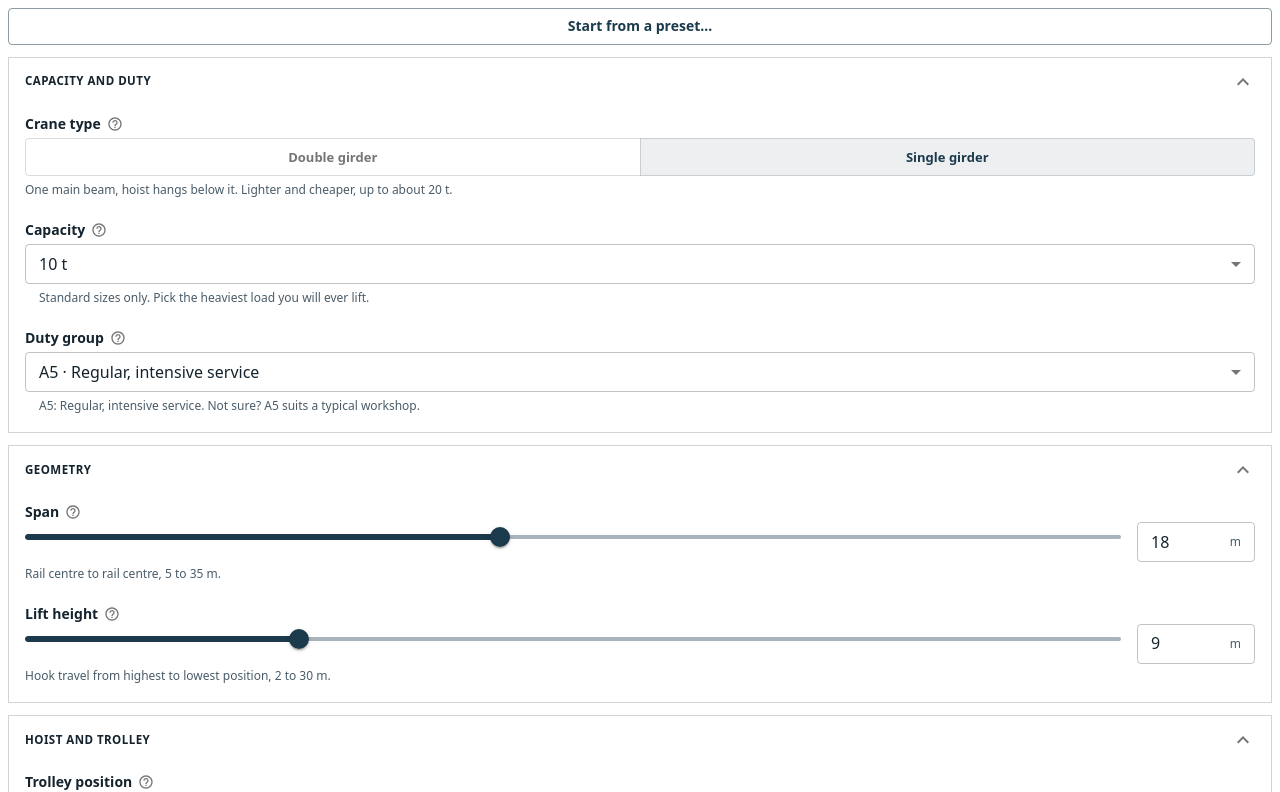
Test: InputsPanel validation display › shows a cross-field rule on the capacity field with its hint, and a warning without blocking
Click the dropdown labelled "10 t": (53, 264) [39,253,67,275]
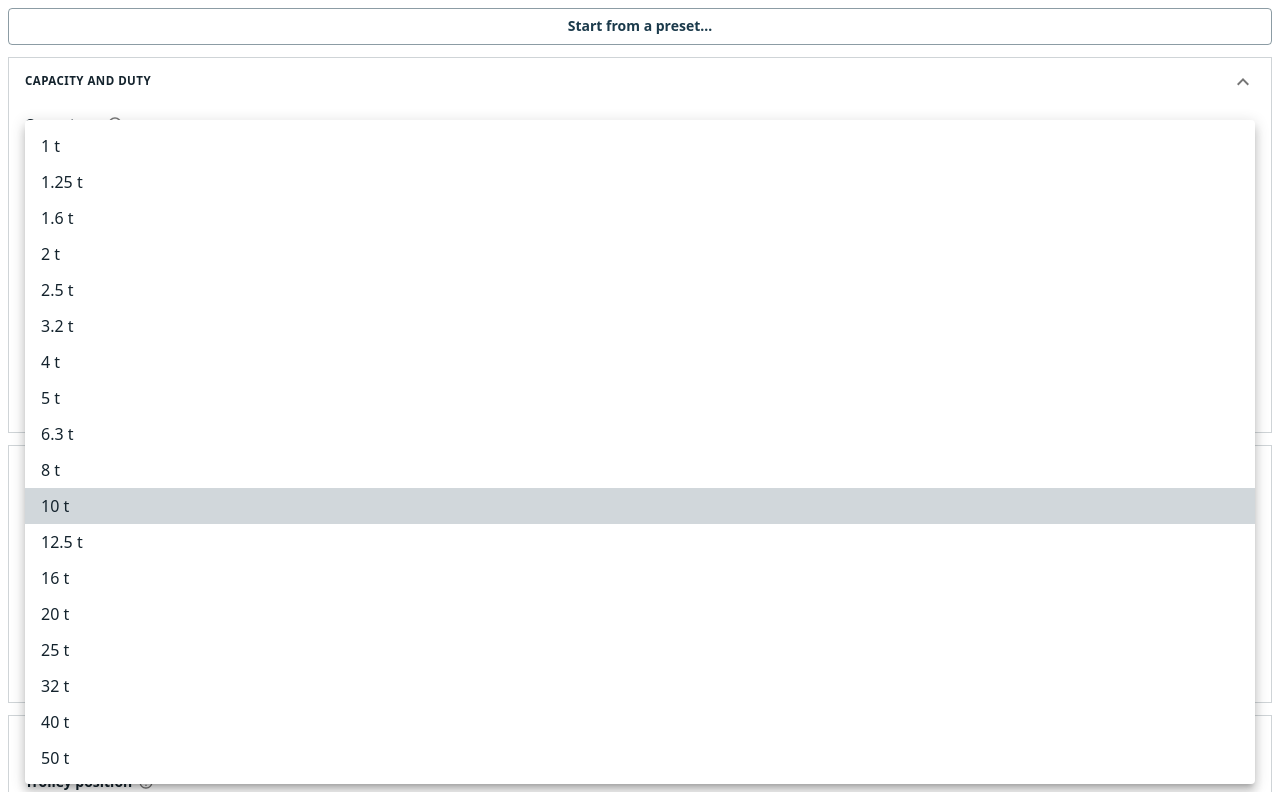
Click the option "32 t": (55, 686) [41,675,69,697]
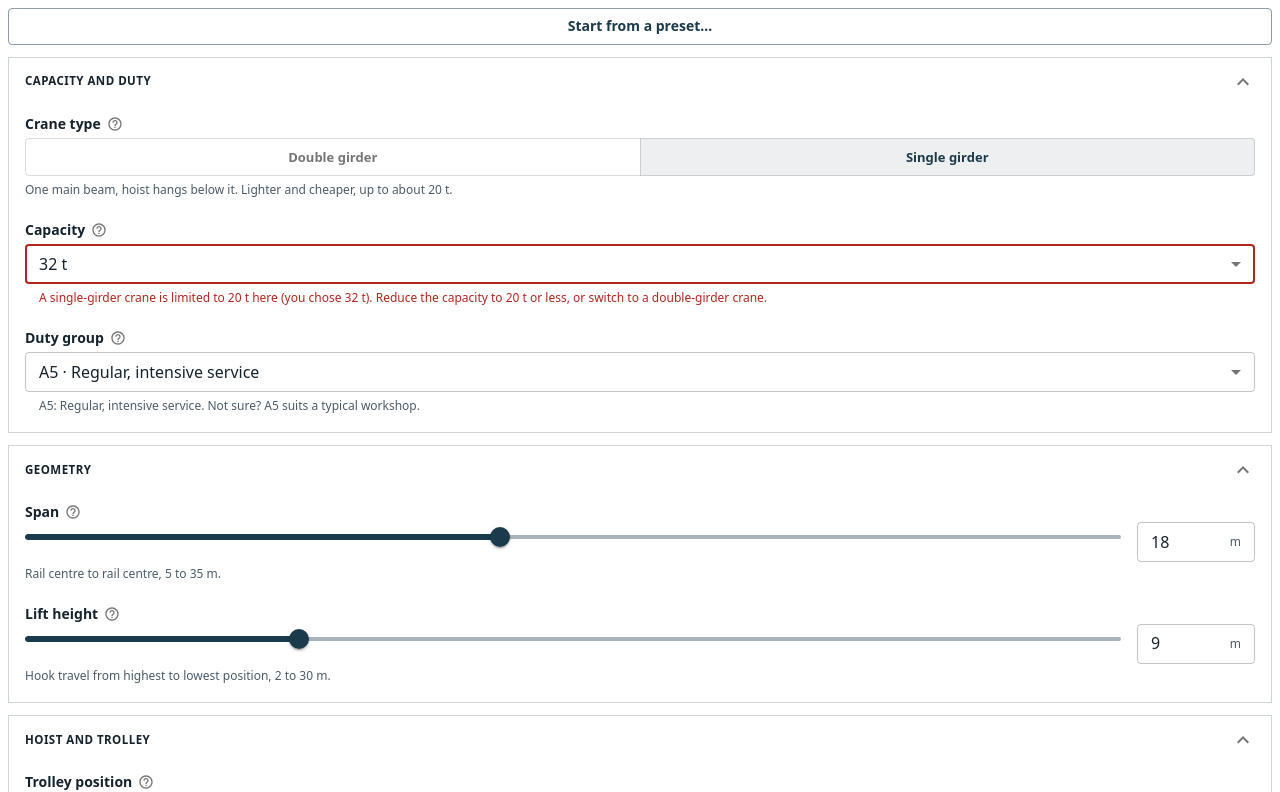
Click the dropdown labelled "32 t": (53, 264) [39,253,67,275]
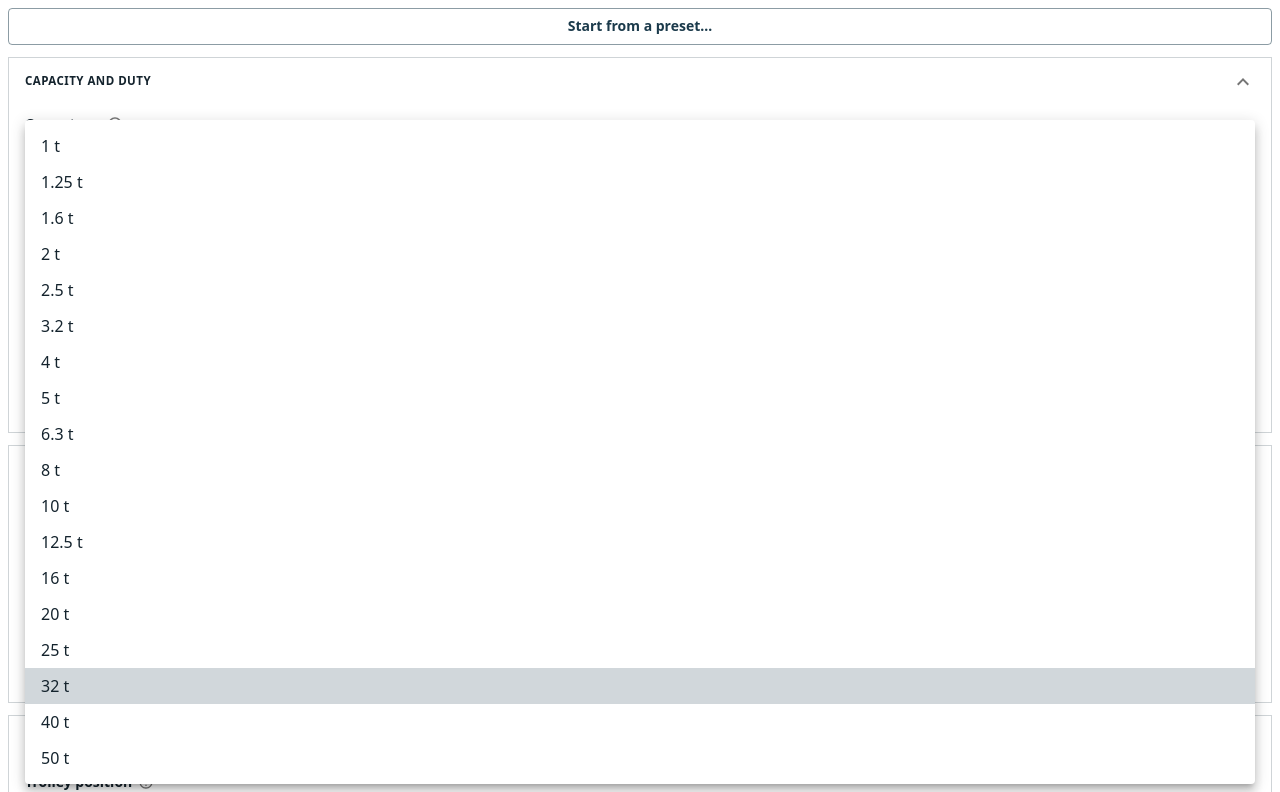
Click the option "20 t": (55, 614) [41,603,69,625]
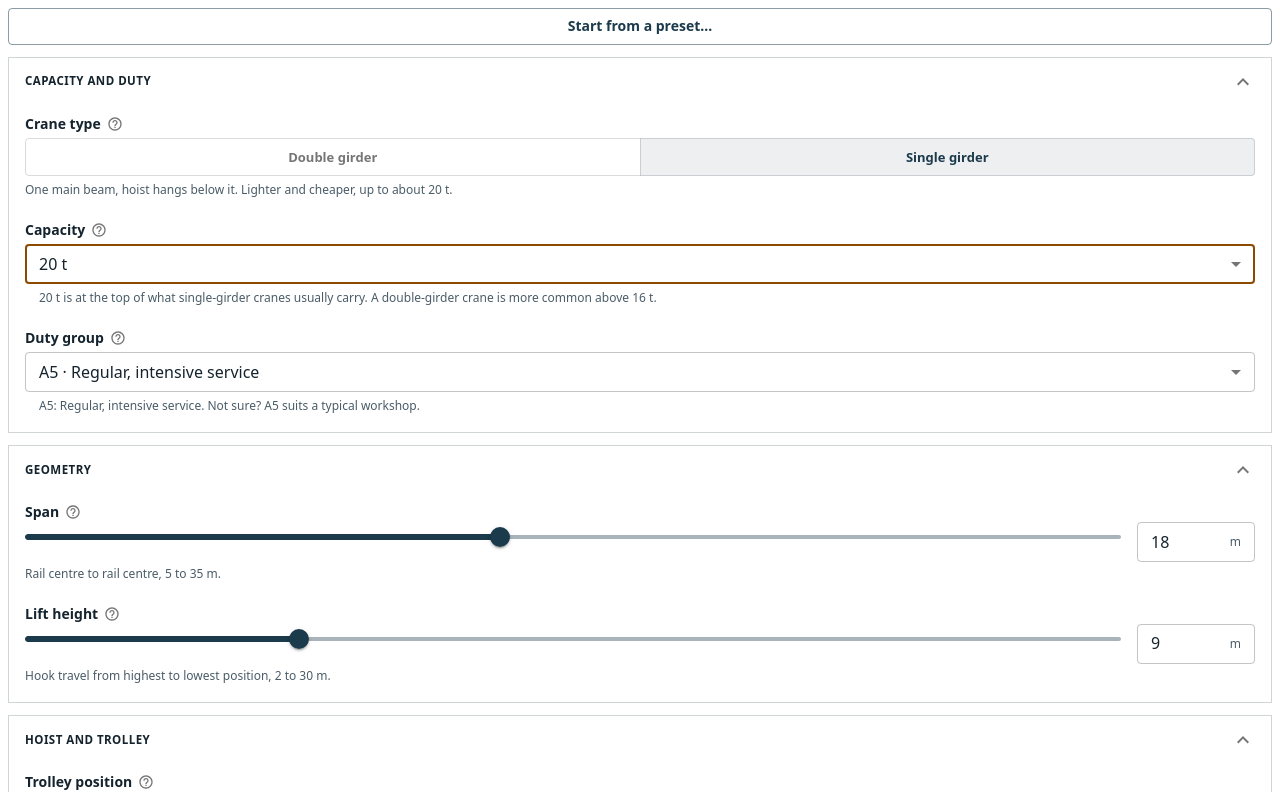
Now the text "top of what single-girder cranes usually carry" is shown, box [39,289,368,306]
